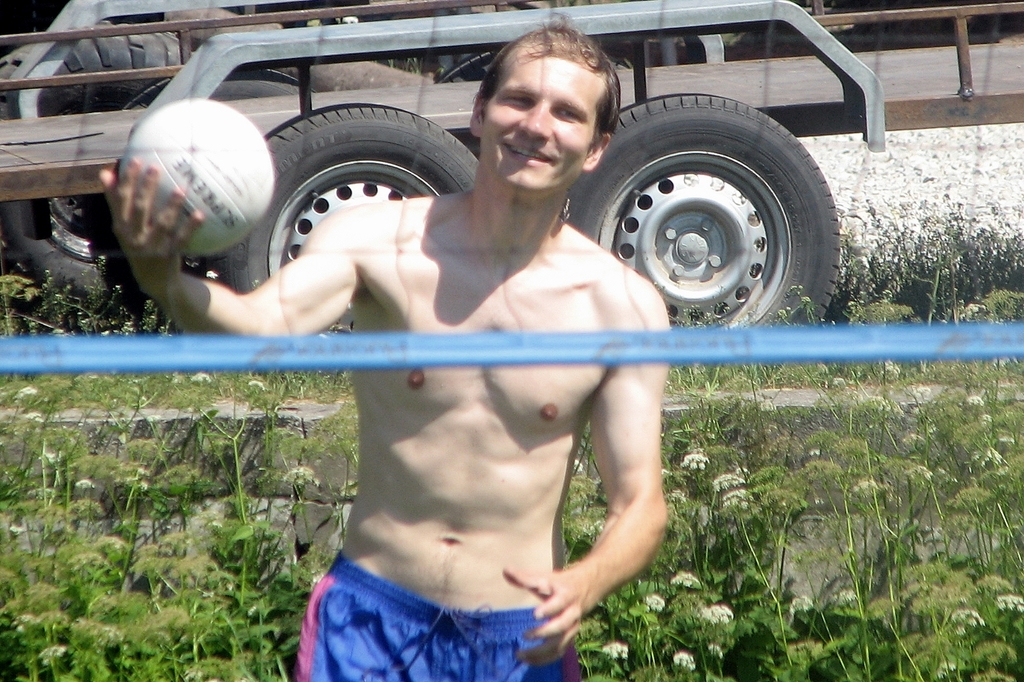Ball: (121, 100, 276, 262)
